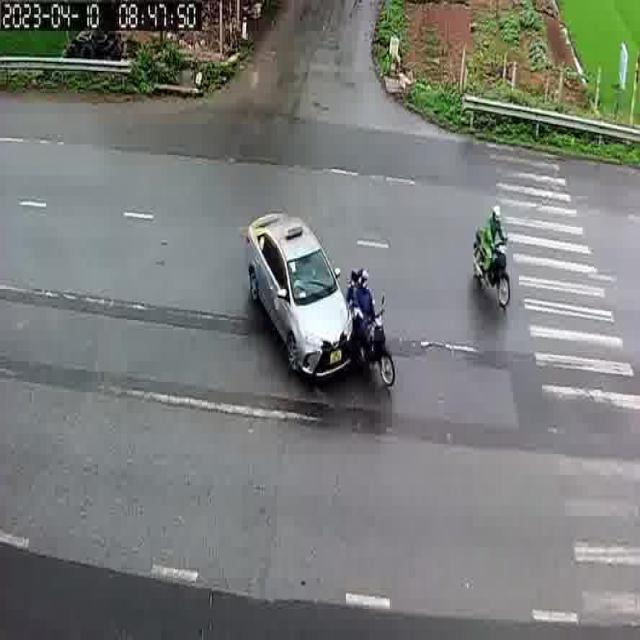multiple_accident: (238, 196, 401, 417)
normal: (449, 197, 533, 320)
